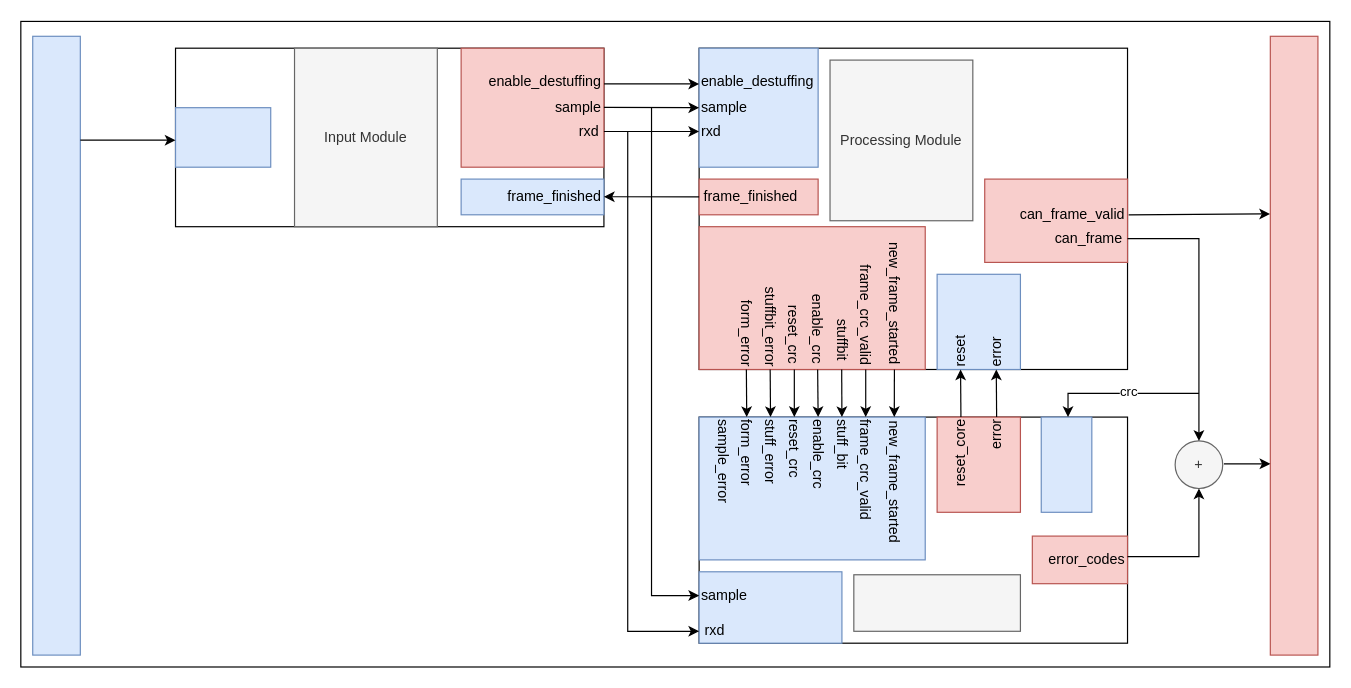
Some shapes in this 1351 by 688 pixel diagram are drawn without their labels. Each missing label, with the centre of its shape:
"frame_crc" goes at pixel 1066 464.
"Handling Module" goes at pixel 936 602.
"rxd_async" goes at pixel 222 137.
